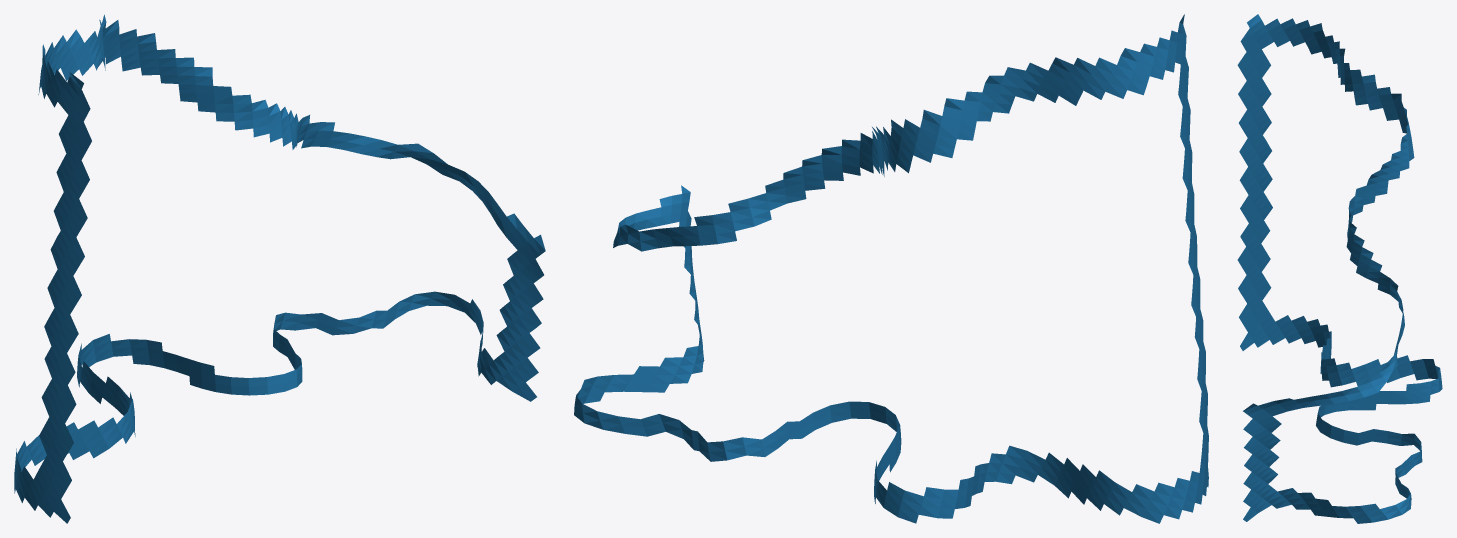
The model's file is selected_mesh9.obj.
3 renders of one model, left to right at view 1: azimuth 30°, elevation 25°; view 2: azimuth 150°, elevation 25°; view 3: azimuth 270°, elevation 25°, orthographic. The views are drawn at different scales.
Size of the model in its own units: 0.7657 by 0.6367 by 0.346.
